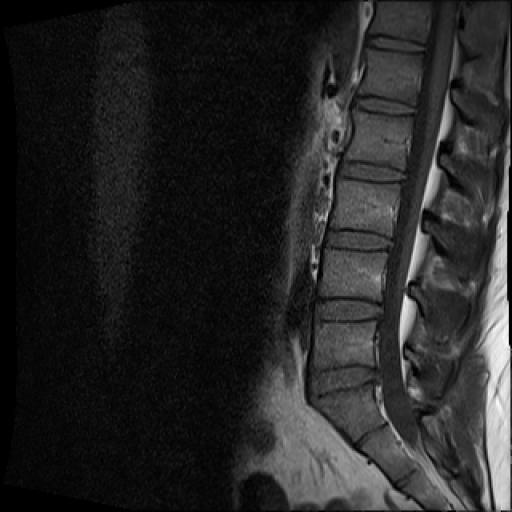L1: (367, 0, 434, 45)
L2: (357, 47, 423, 106)
L3: (343, 106, 413, 171)
L4: (330, 176, 400, 238)
L5: (319, 248, 387, 302)
S1: (314, 383, 428, 499)
